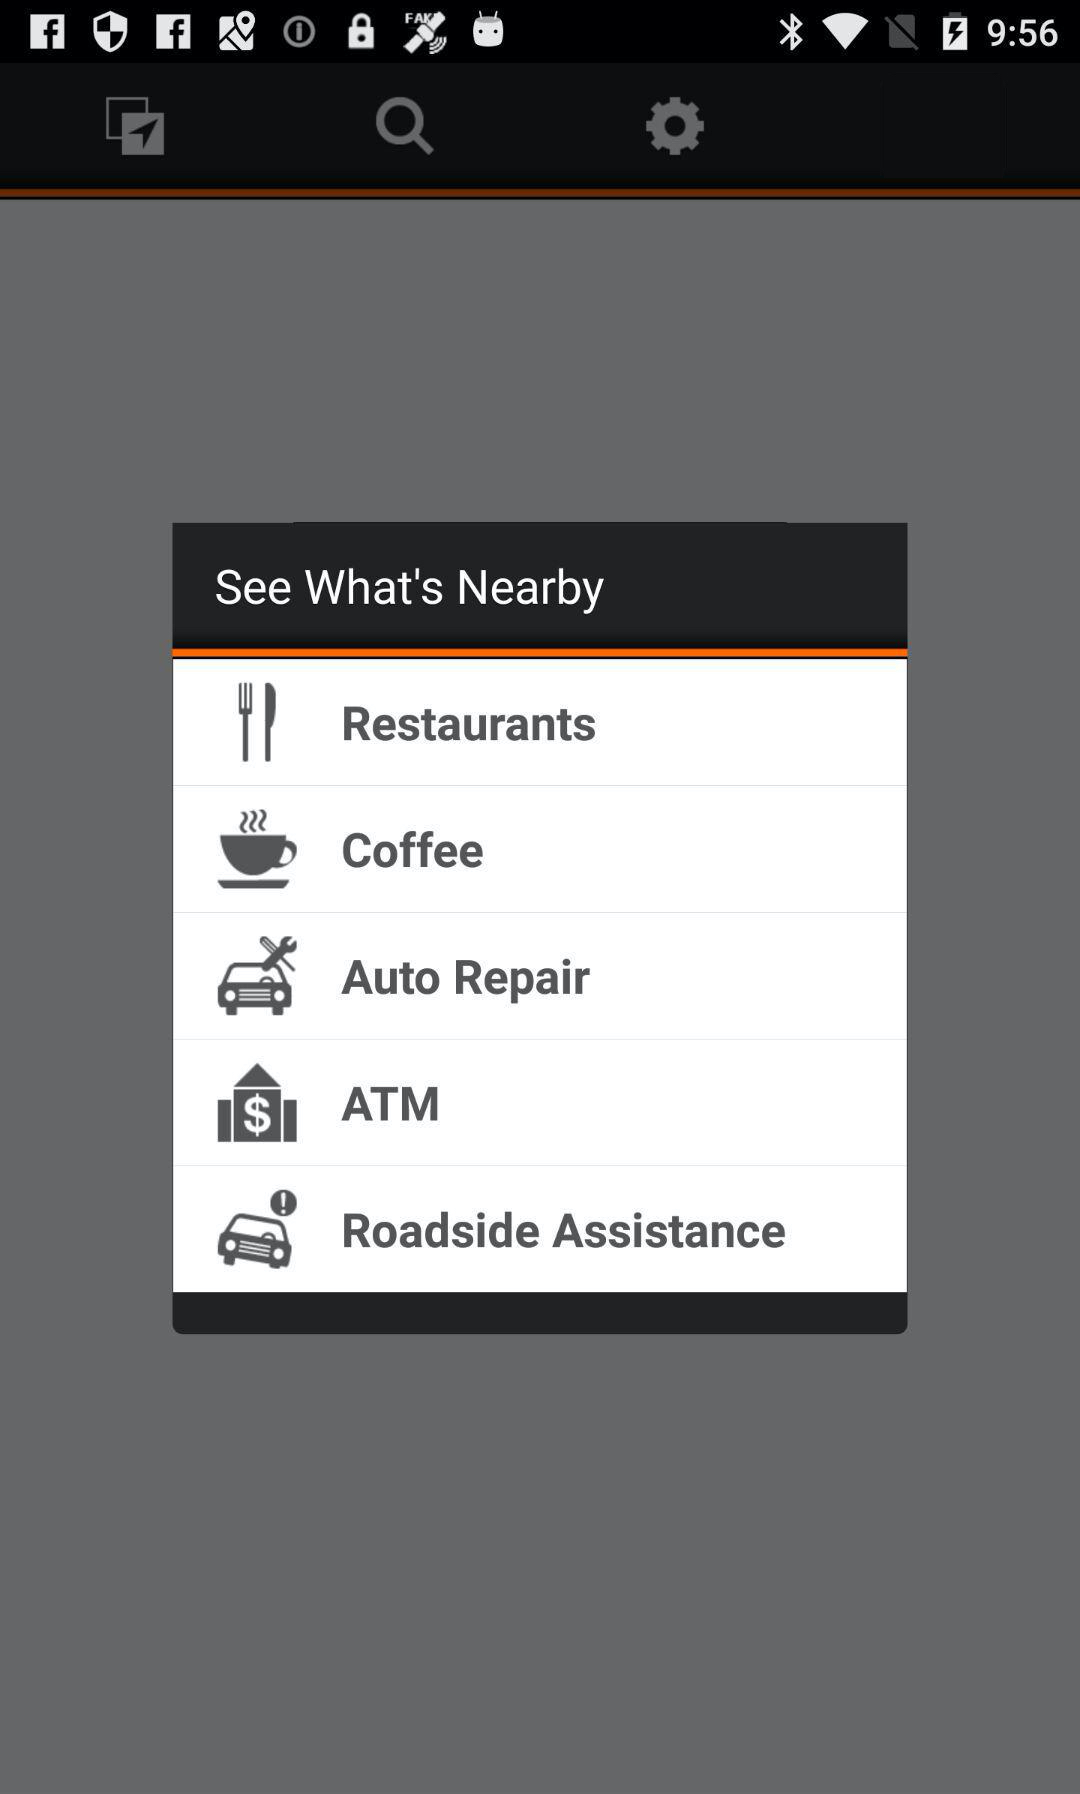Icon: (644, 97, 705, 158), (375, 97, 436, 158)
Image: (217, 809, 299, 889), (218, 1189, 299, 1269), (219, 935, 299, 1016), (218, 1064, 299, 1142), (106, 97, 167, 158), (237, 682, 278, 762)
Modal: (172, 522, 908, 1337)
Text: (215, 568, 605, 616), (343, 1211, 787, 1249), (341, 959, 592, 1003), (343, 706, 597, 743), (345, 830, 486, 868), (341, 1087, 439, 1123)
UpperTaskBar: (1, 1, 1080, 64)
